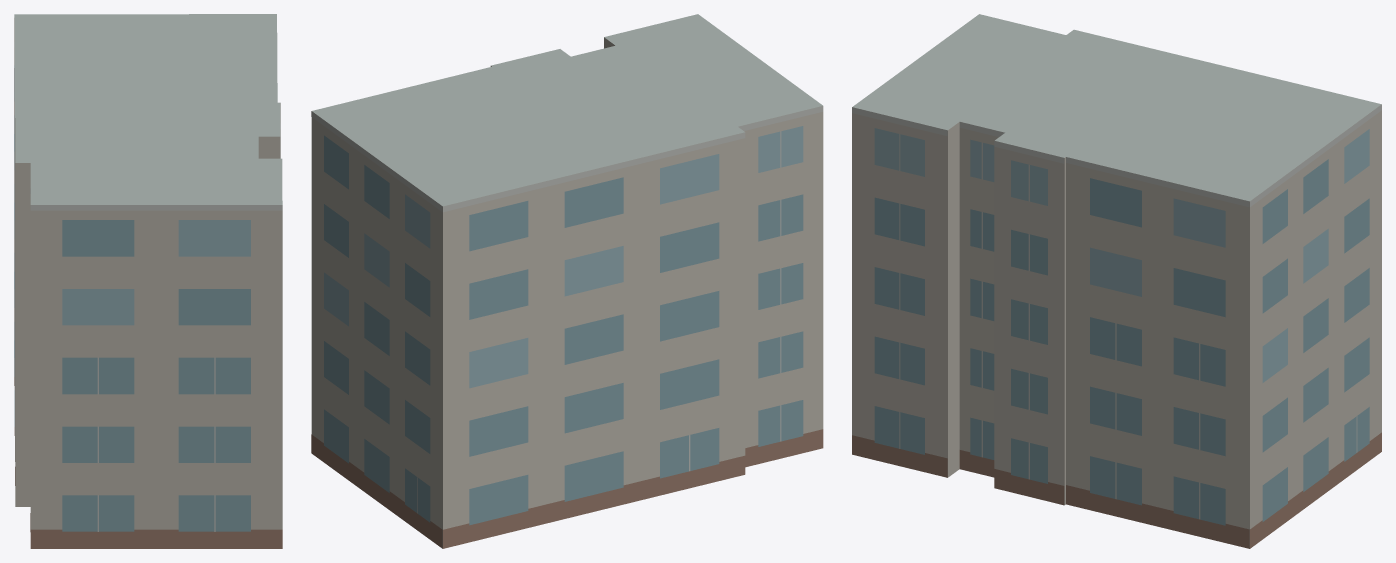
File: survey-upis-32755204.glb
3 renders of one model, left to right at view 1: azimuth 30°, elevation 25°; view 2: azimuth 150°, elevation 25°; view 3: azimuth 270°, elevation 25°, orthographic.
Parts seen in each view (by area): view 1: survey-upis-32755204.tmp; view 2: survey-upis-32755204.tmp; view 3: survey-upis-32755204.tmp.
Part boxes in pixels (x1=…): survey-upis-32755204.tmp: x1=14, y1=14, x2=282, y2=548; survey-upis-32755204.tmp: x1=311, y1=14, x2=823, y2=548; survey-upis-32755204.tmp: x1=852, y1=14, x2=1381, y2=548.
Size of the model in its own units: 16.38 by 14.15 by 19.56.
